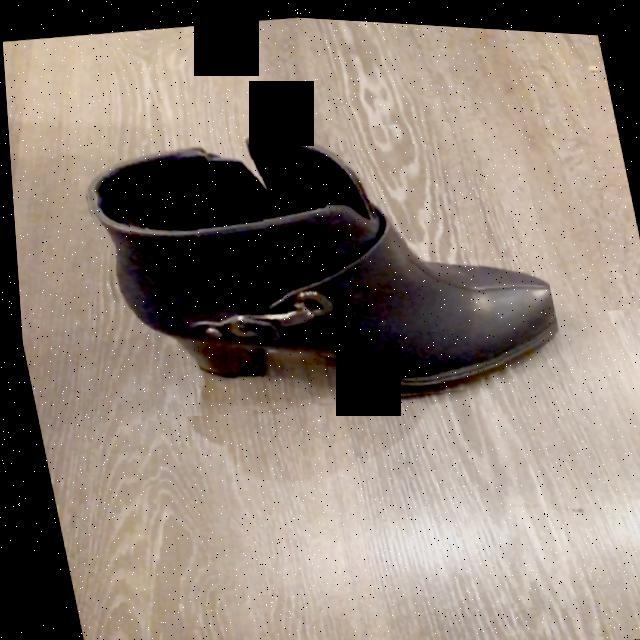shoe: (85, 131, 555, 390)
